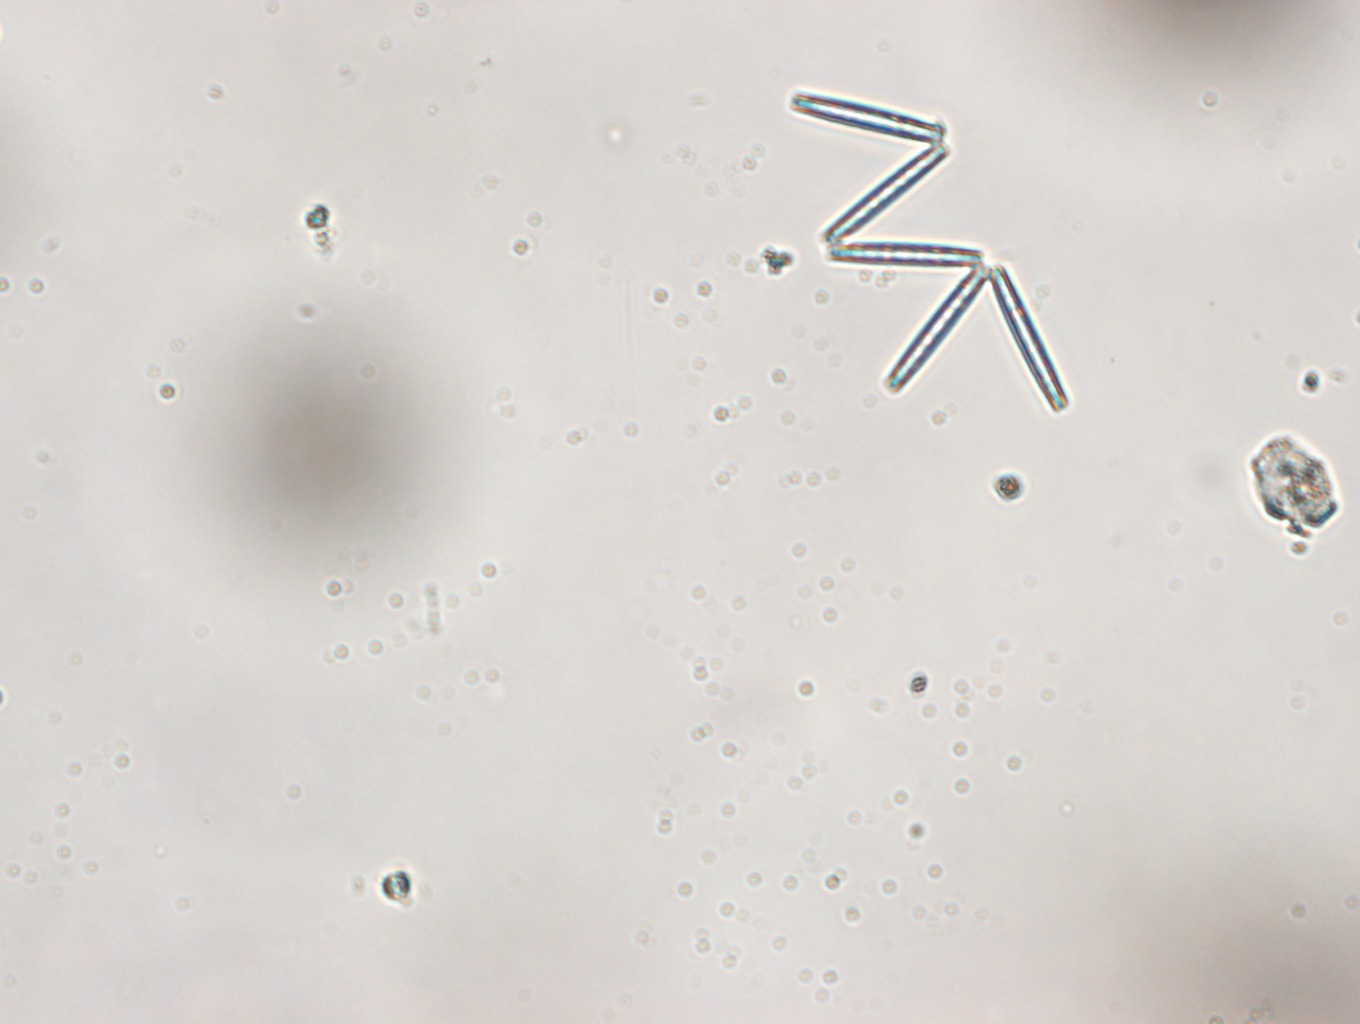thalassionema nitzschioides: (785, 85, 1068, 417)
